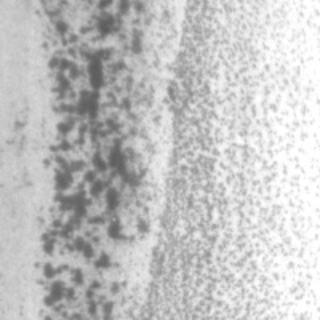pitted_surface: (149, 0, 317, 316), (34, 0, 156, 316)
